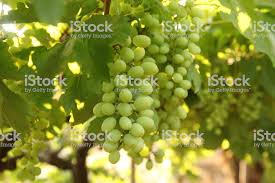grapes: (101, 35, 157, 160), (154, 6, 196, 132)
